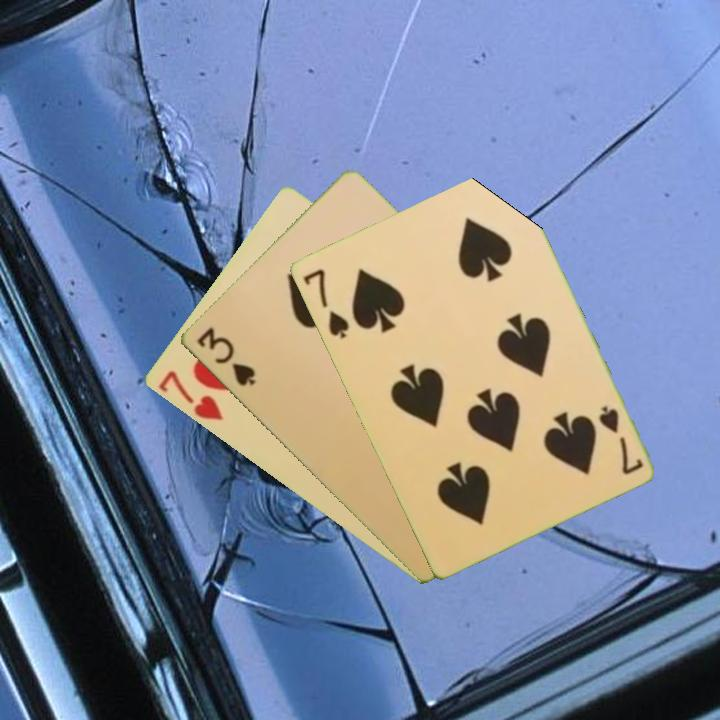3s: (193, 323, 259, 389)
7h: (154, 367, 226, 424)
7s: (299, 265, 352, 342), (594, 402, 646, 478)
